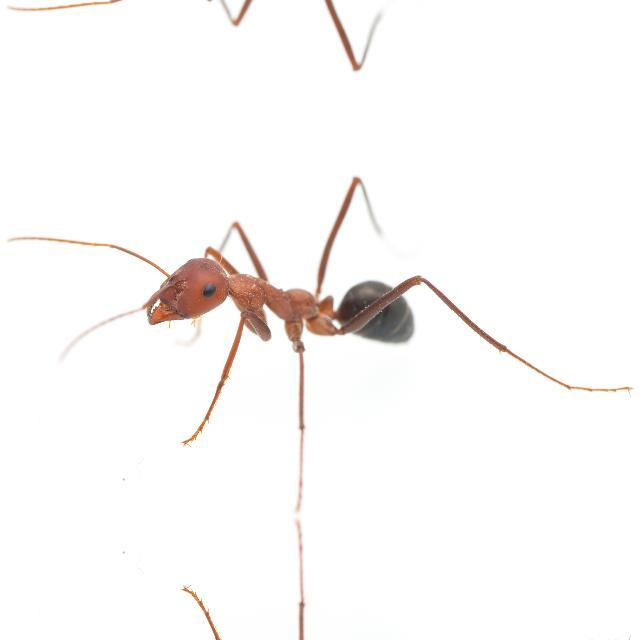Cataglyphis: (96, 219, 458, 375)
